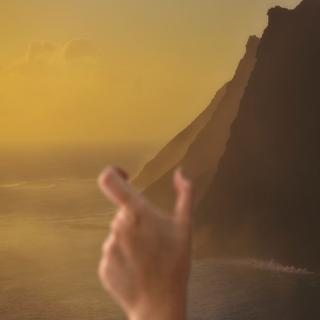HATE: (94, 163, 203, 312)
